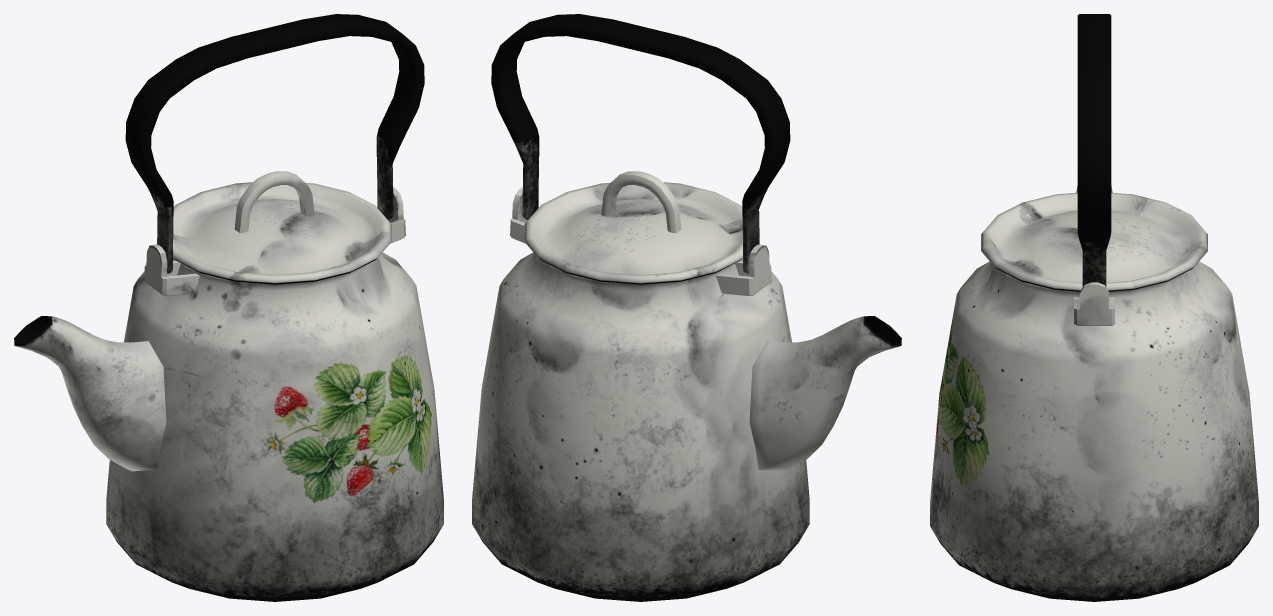
File: kettle.glb
3 views of the same model, side by side, from view 1: azimuth 30°, elevation 25°; view 2: azimuth 150°, elevation 25°; view 3: azimuth 270°, elevation 25° (orthographic). The views are drawn at different scales.
Visible parts, largest first — view 1: Object_2; view 2: Object_2; view 3: Object_2.
Part boxes in pixels (left/top/right/bottom): Object_2: left=14, top=14, right=443, bottom=601; Object_2: left=472, top=14, right=901, bottom=601; Object_2: left=930, top=14, right=1258, bottom=601.
Bounding box in the file's own units: 0.2978 × 0.3623 × 0.2127.
1 material, 1 textured.
